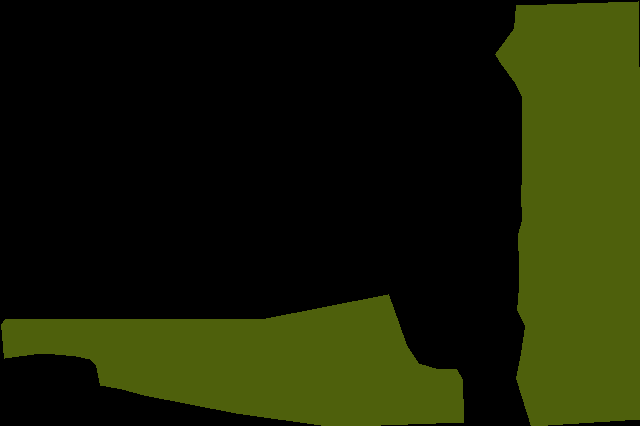Train: (1, 1, 640, 426)
